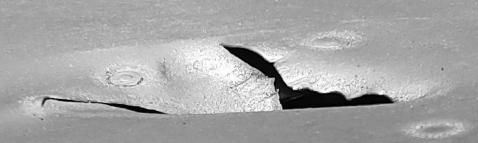crack: (1, 0, 478, 143)
